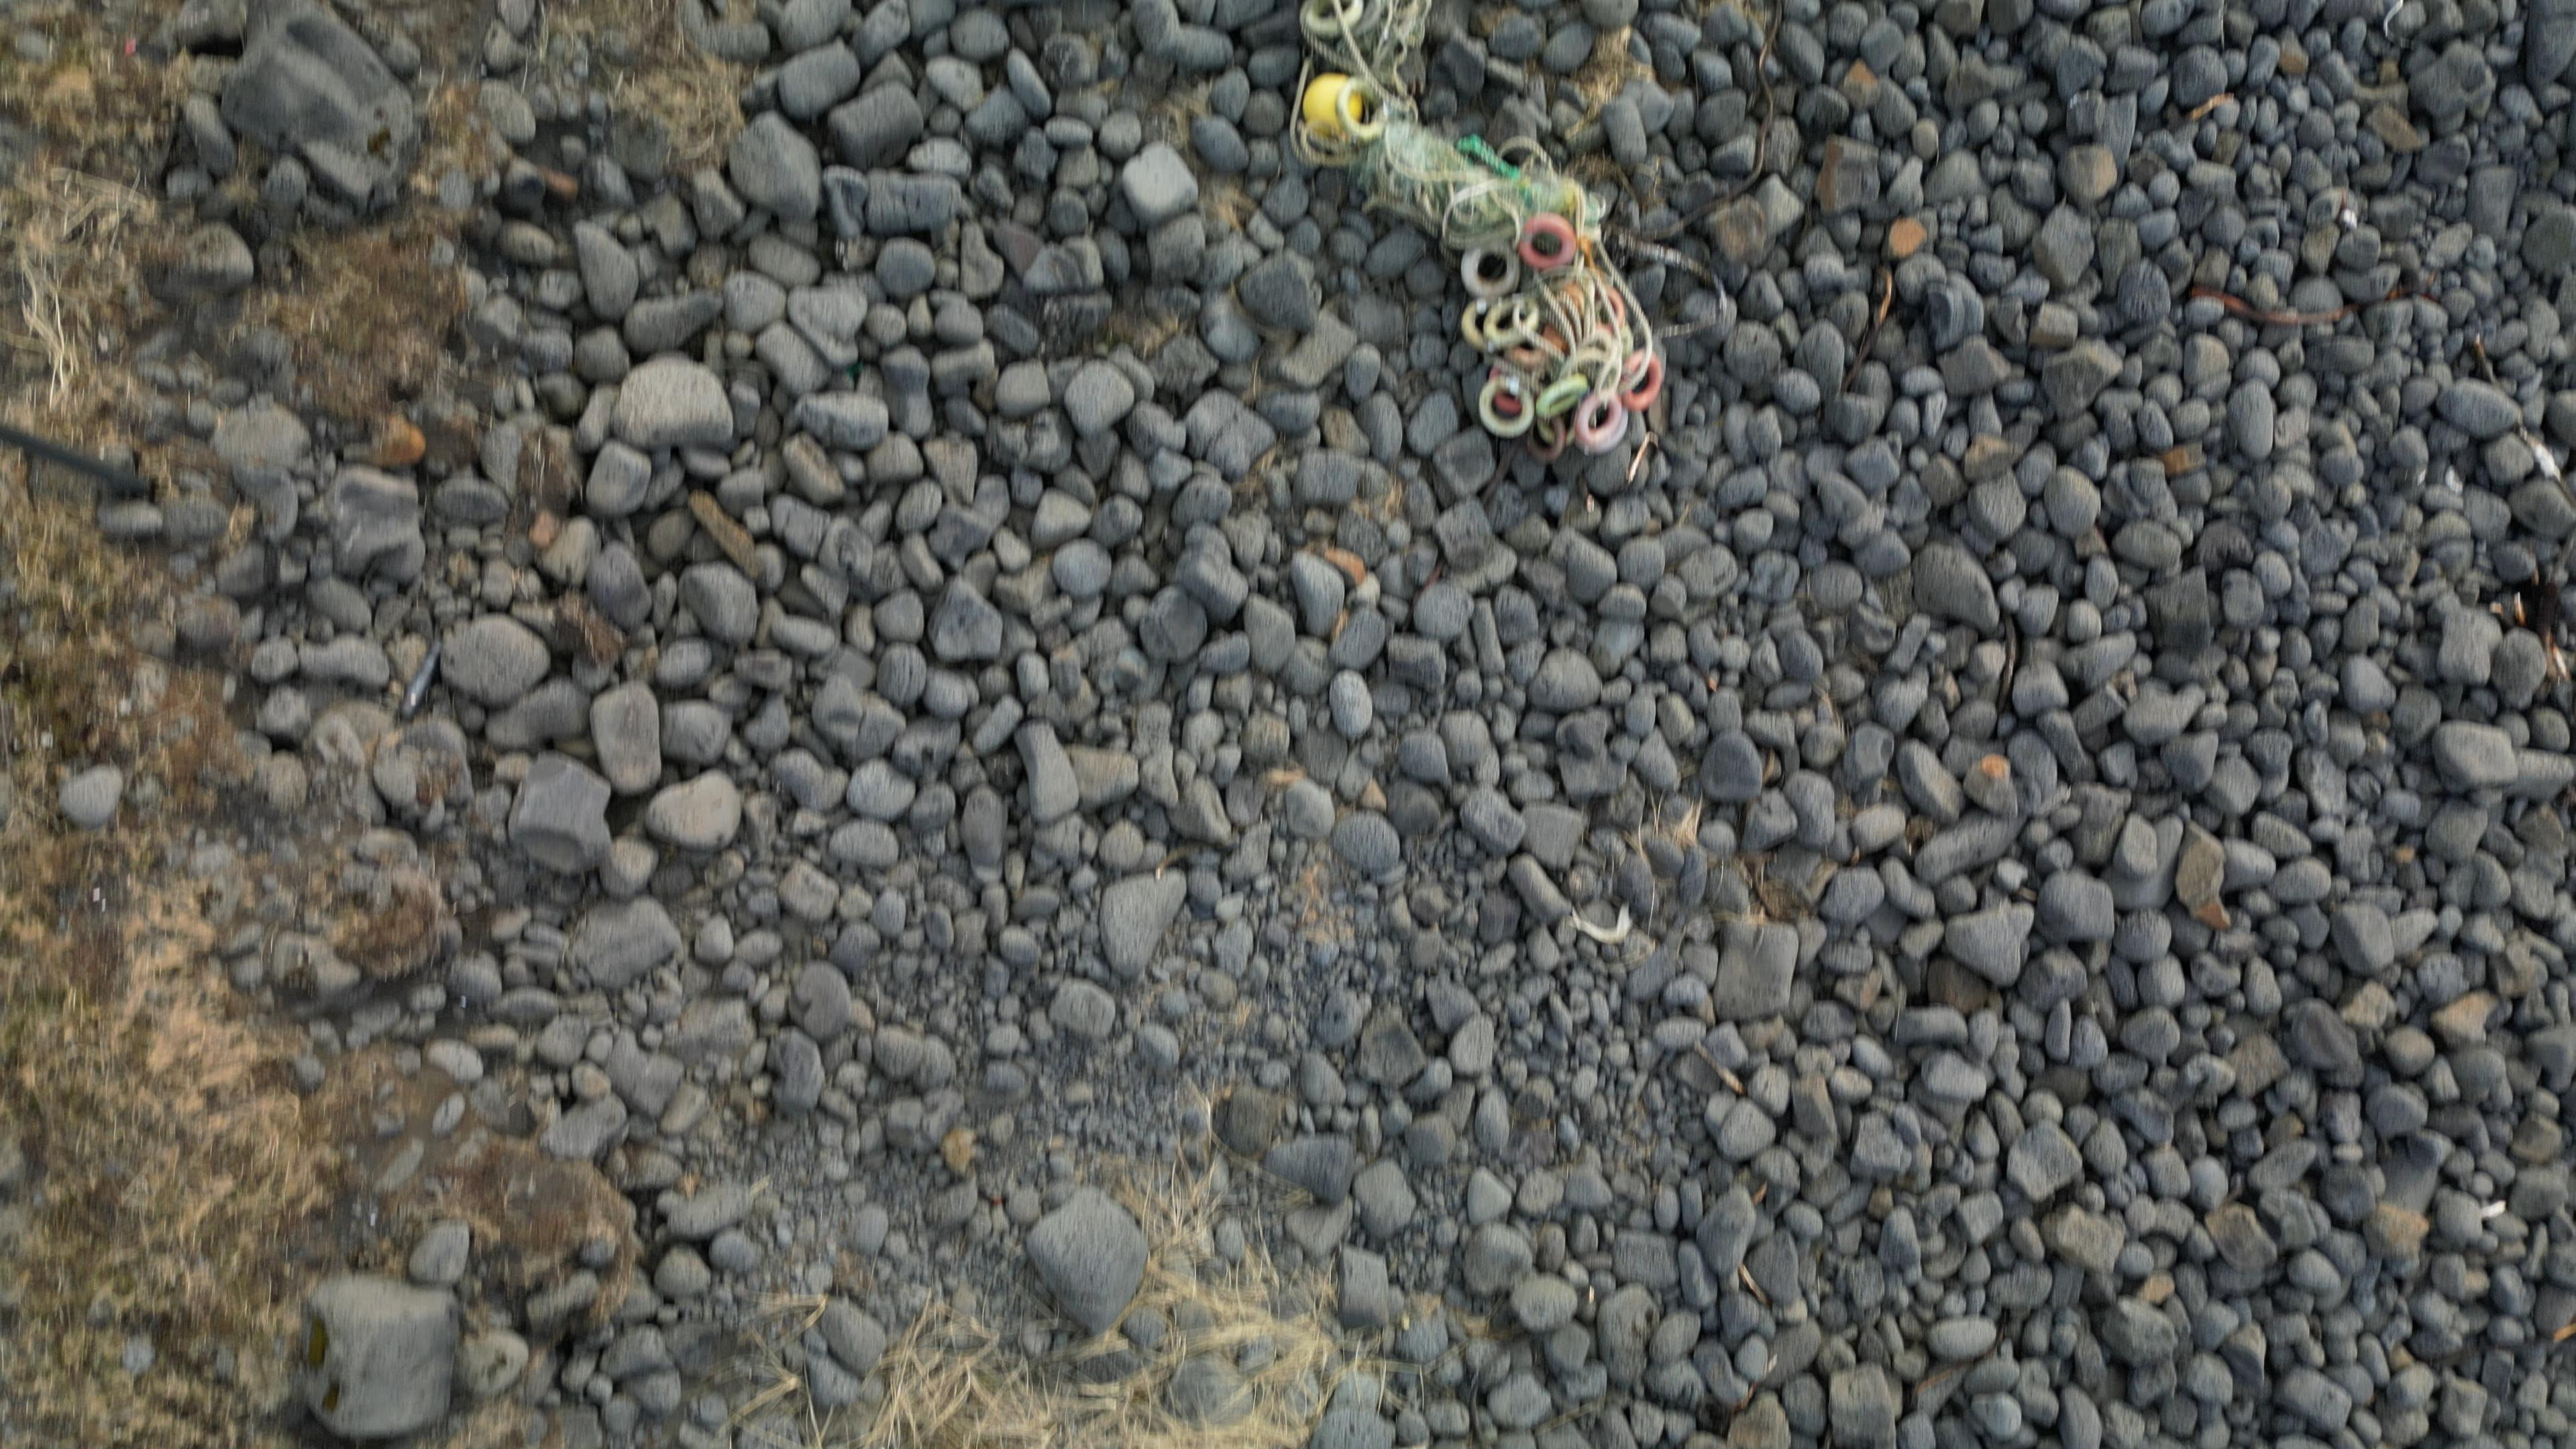trash: (1288, 0, 1665, 458)
